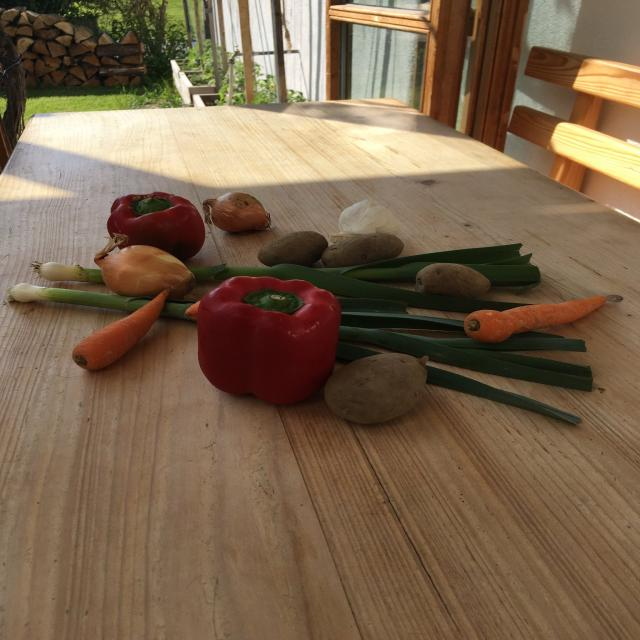Carrot: (67, 287, 174, 377), (463, 292, 611, 344)
Potato: (320, 348, 440, 429), (252, 224, 330, 272), (314, 231, 412, 267), (408, 261, 494, 301)
